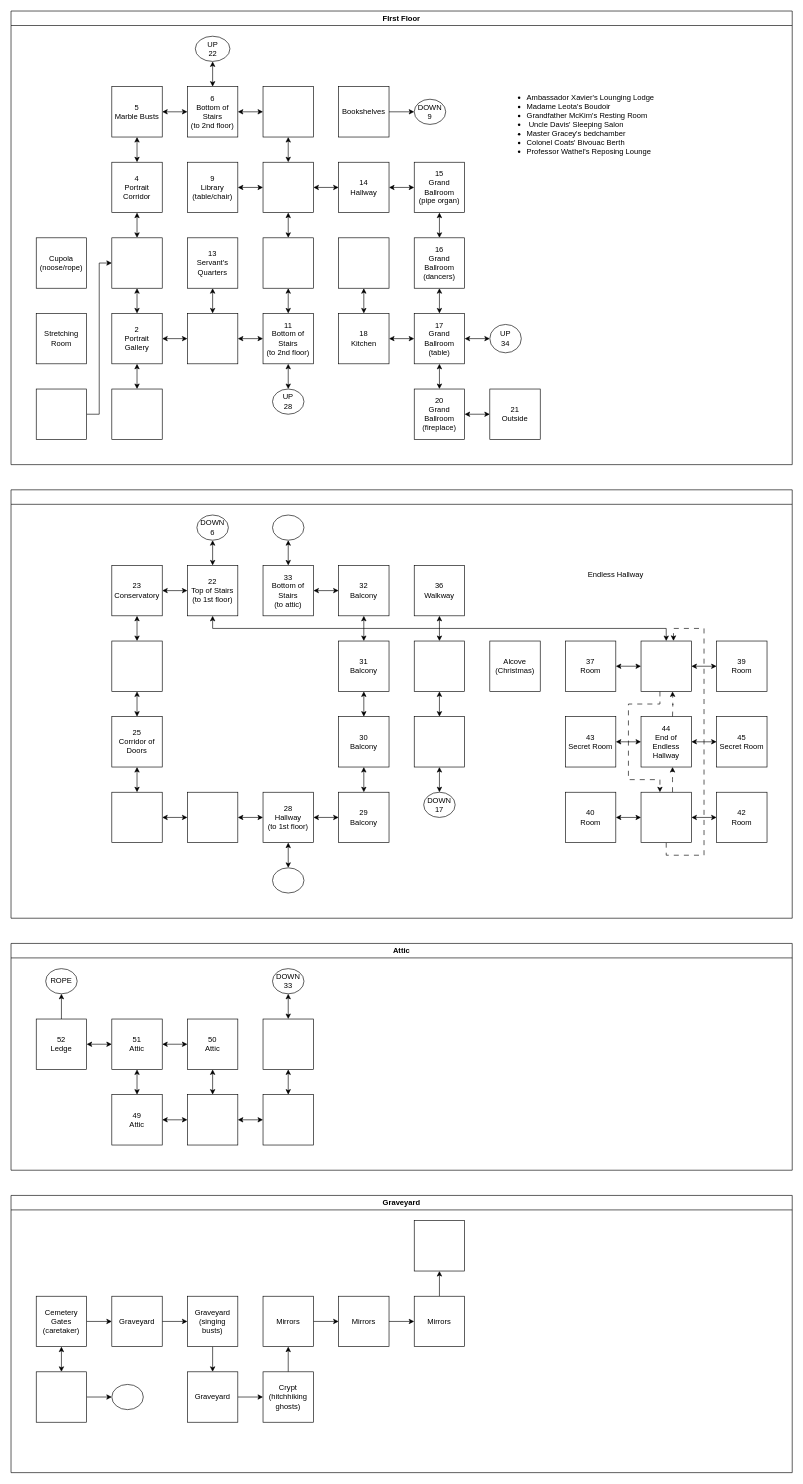
The diagram is 803 pixels wide and 1484 high, and some of its shapes have lost their labels. The box of each missing label's shape, as (x1, y1, x2, y2) in pixels:
1 Foyer: (111, 388, 162, 439)
10 Portrait Hall (Sinister 11): (262, 237, 313, 288)
12 Hallway: (187, 313, 238, 364)
19 Kitchen: (338, 237, 389, 288)
24 Corridor of Doors: (111, 640, 162, 691)
26 Clock: (111, 792, 162, 843)
27 Seance Circle (crystal ball): (187, 792, 238, 843)
3 Portrait Corridor: (111, 237, 162, 288)
34 Walkway: (414, 716, 465, 767)
35 Walkway: (414, 640, 465, 691)
38 Endless Hallway: (640, 640, 691, 691)
41 Endless Hallway: (640, 792, 691, 843)
46 Top of Stairs (to 2nd floor): (262, 1018, 313, 1069)
47 Attic: (262, 1094, 313, 1145)
48 Attic: (187, 1094, 238, 1145)
7 Music Room: (262, 86, 313, 137)
8 Library (ladder): (262, 162, 313, 213)
CLIMB 52: (111, 1384, 143, 1410)
DOWN 11: (272, 867, 304, 893)
Exit: (414, 1220, 465, 1271)
Second Floor: (10, 489, 792, 918)
Secret Entrance: (36, 388, 87, 439)
Trees: (36, 1371, 87, 1422)
UP 46: (272, 514, 304, 540)
